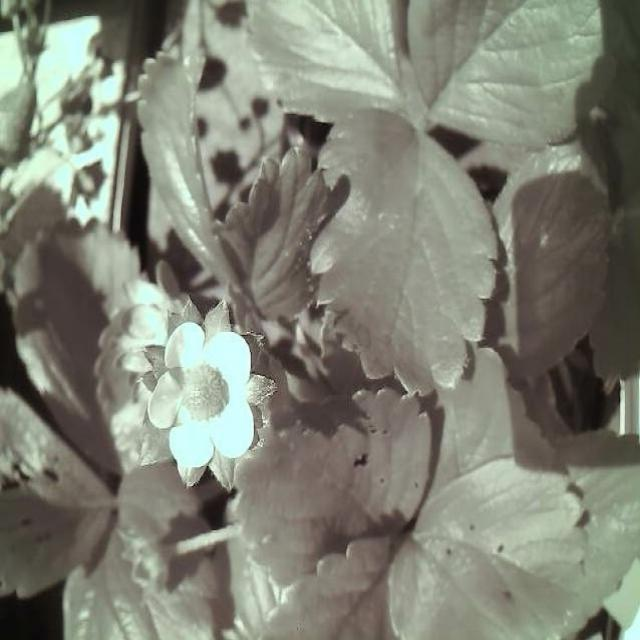flower: (144, 311, 261, 477)
